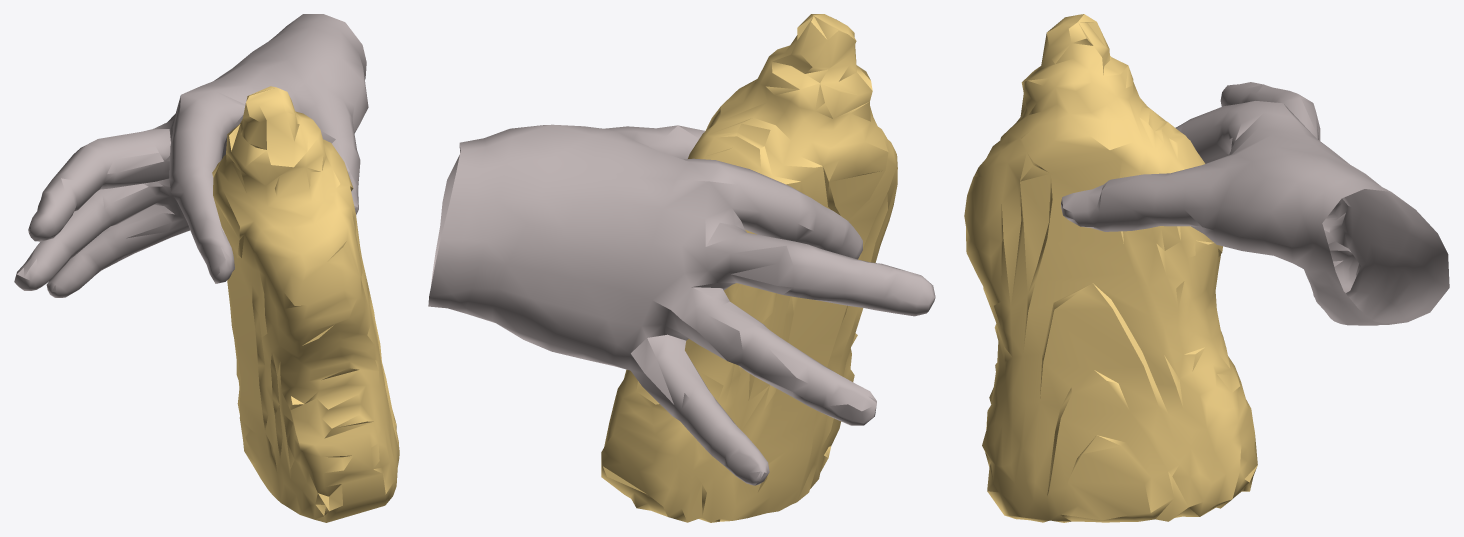
The model's file is mocap_pinch_frame.glb.
3 views of the same model, side by side, from view 1: azimuth 30°, elevation 25°; view 2: azimuth 150°, elevation 25°; view 3: azimuth 270°, elevation 25° (orthographic). The views are drawn at different scales.
Visible parts, largest first — view 1: mesh0; view 2: mesh0; view 3: mesh0.
Part boxes in pixels (box(x1,y1,x2,y2)): mesh0: box(14, 14, 399, 522); mesh0: box(428, 14, 935, 522); mesh0: box(964, 14, 1449, 522).
Bounding box in the file's own units: 0.1865 × 0.198 × 0.1866.
